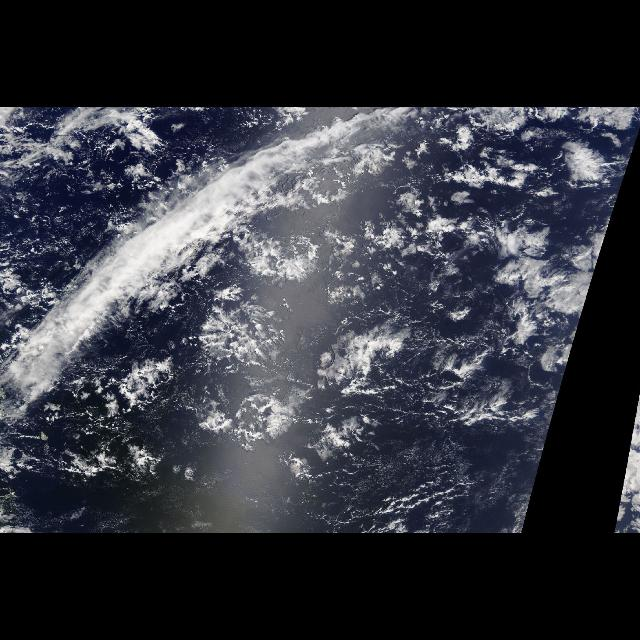Fish: (17, 204, 252, 406)
Flower: (236, 118, 584, 420)
